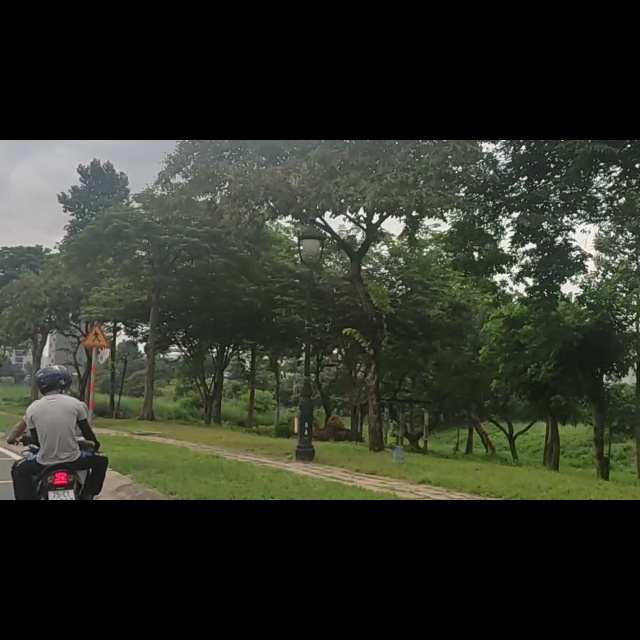bien_nguy_hiem: (81, 325, 110, 367)
